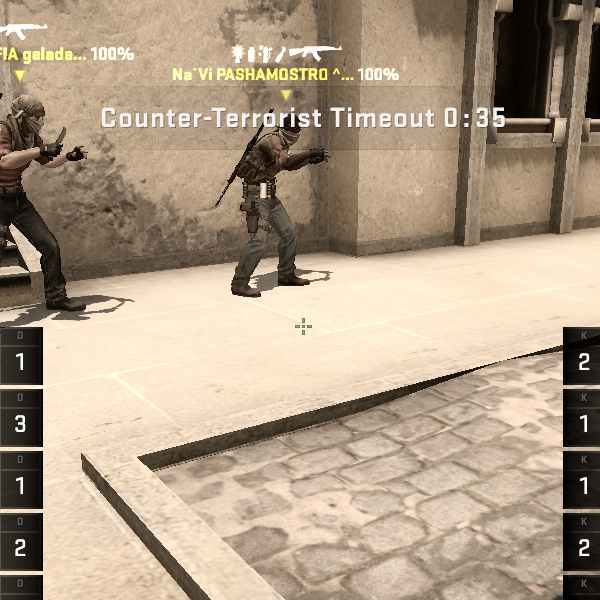t_body: (1, 92, 89, 309), (229, 114, 323, 298)
t_head: (2, 87, 64, 141), (268, 110, 315, 156)
